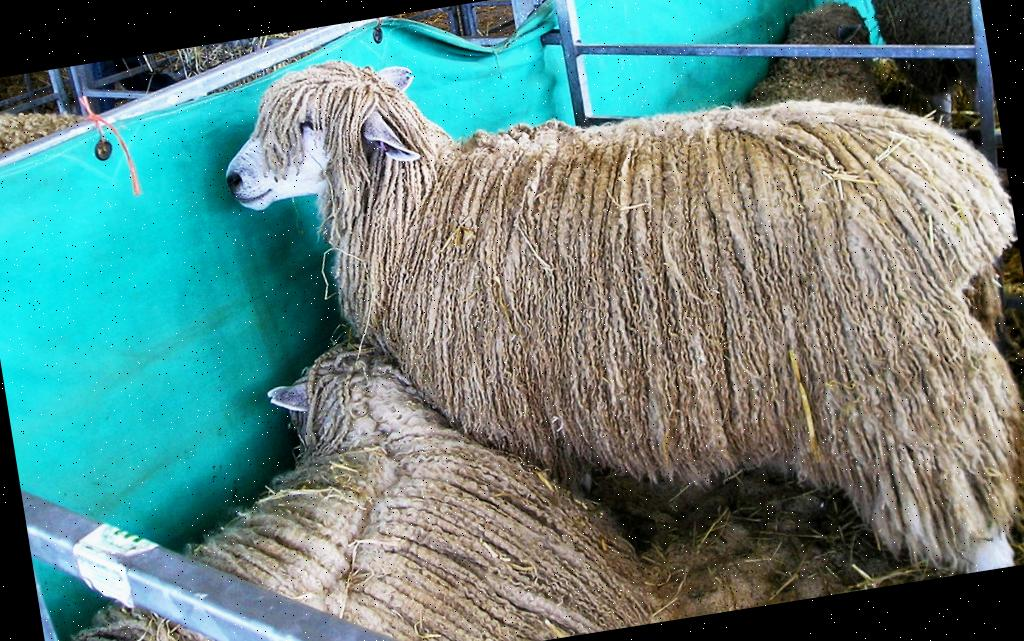Sheep: (207, 0, 1024, 641), (20, 294, 661, 641), (730, 0, 881, 130), (863, 0, 994, 139)
